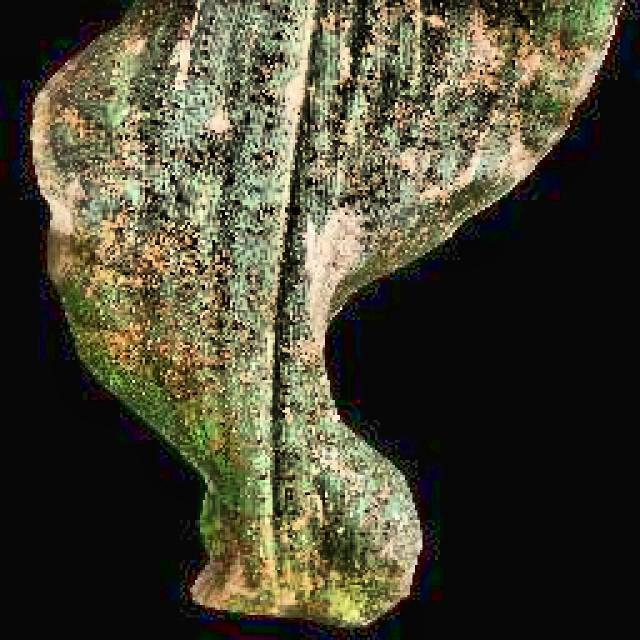tobacco: (30, 0, 622, 625)
